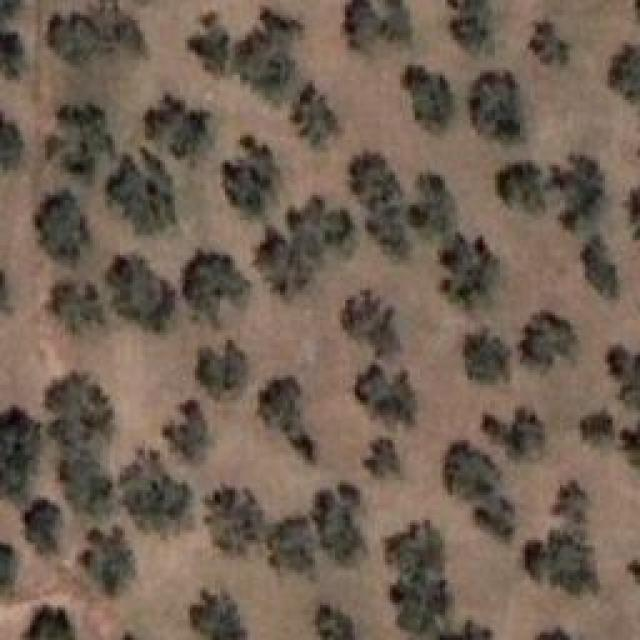Tree: (120, 448, 191, 536), (108, 148, 177, 233), (47, 105, 115, 181), (182, 250, 250, 326), (107, 257, 175, 332), (258, 377, 314, 462), (48, 374, 114, 446), (222, 135, 280, 215), (314, 482, 368, 564), (547, 155, 607, 227), (440, 233, 499, 305), (145, 92, 211, 156), (205, 485, 265, 555), (390, 570, 450, 635), (343, 290, 402, 356), (35, 190, 91, 258), (0, 407, 40, 502), (355, 364, 418, 424), (80, 528, 136, 595), (288, 192, 352, 250), (60, 450, 113, 519), (235, 30, 296, 89), (383, 515, 445, 573), (470, 73, 523, 140), (258, 228, 310, 295), (520, 310, 579, 366), (550, 530, 600, 595), (445, 443, 501, 501), (45, 12, 102, 68), (483, 408, 546, 458), (290, 82, 339, 146), (403, 65, 453, 126), (410, 173, 458, 236), (351, 153, 404, 210), (162, 400, 210, 462), (190, 590, 249, 640), (50, 283, 105, 334), (268, 518, 318, 571), (468, 327, 511, 382), (583, 235, 618, 297), (185, 25, 230, 73), (25, 497, 63, 552), (500, 164, 541, 214), (368, 208, 411, 255), (447, 0, 487, 48), (607, 45, 640, 102), (25, 605, 78, 640), (345, 0, 381, 49), (530, 23, 570, 65), (475, 495, 515, 537), (365, 438, 403, 478), (548, 483, 590, 518), (607, 345, 640, 385), (223, 340, 248, 391), (0, 112, 22, 168), (320, 605, 355, 640), (580, 410, 614, 445), (0, 30, 24, 78), (440, 620, 493, 640), (523, 540, 549, 579), (0, 543, 18, 595), (193, 351, 219, 384), (617, 380, 639, 410)
